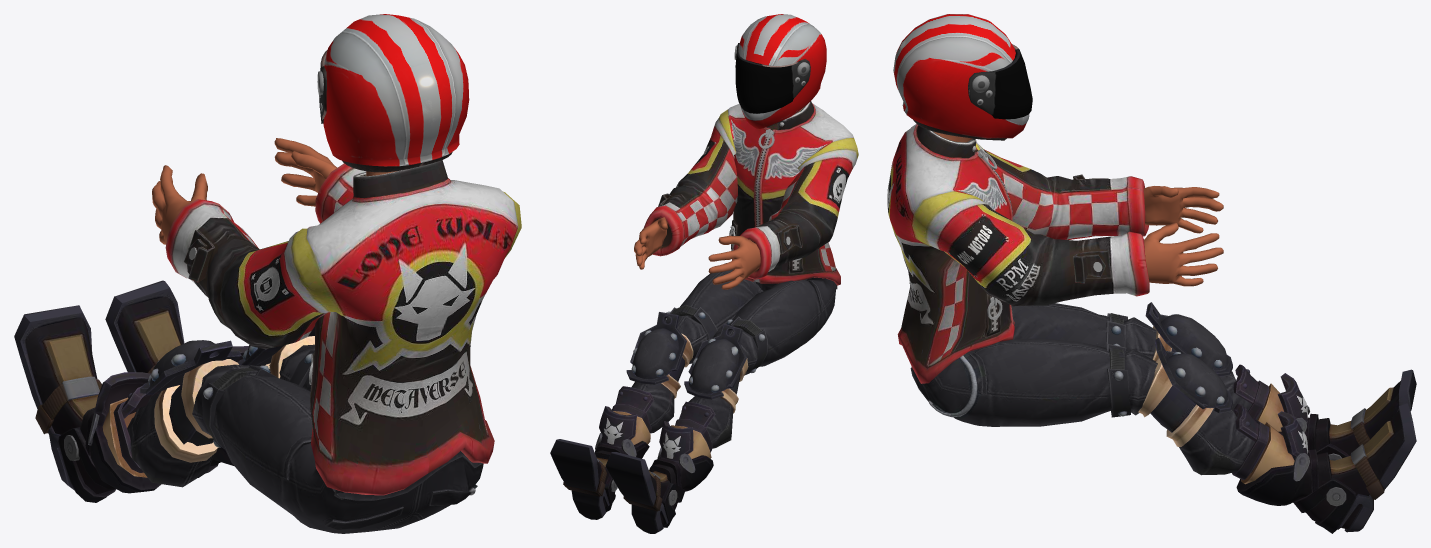
File: driver_human_cabin.glb
The picture shows the model from 3 angles, left to right: view 1: azimuth 30°, elevation 25°; view 2: azimuth 150°, elevation 25°; view 3: azimuth 270°, elevation 25°; orthographic projection. The views are drawn at different scales.
Parts seen in each view (by area): view 1: Object_105_baked, Object_101_baked, Object_97_baked, Object_103_baked, Object_99_baked; view 2: Object_101_baked, Object_105_baked, Object_103_baked, Object_97_baked, Object_99_baked; view 3: Object_105_baked, Object_101_baked, Object_97_baked, Object_103_baked, Object_99_baked.
Part boxes in pixels (<box>): Object_105_baked: <box>165,160,521,495</box>; Object_101_baked: <box>94,326,483,533</box>; Object_97_baked: <box>317,14,469,172</box>; Object_103_baked: <box>14,280,233,502</box>; Object_99_baked: <box>152,138,337,244</box>; Object_101_baked: <box>599,263,837,463</box>; Object_105_baked: <box>644,101,858,285</box>; Object_103_baked: <box>550,433,713,533</box>; Object_97_baked: <box>734,14,826,128</box>; Object_99_baked: <box>634,217,760,289</box>; Object_105_baked: <box>887,124,1149,383</box>; Object_101_baked: <box>910,302,1308,484</box>; Object_97_baked: <box>893,14,1032,140</box>; Object_103_baked: <box>1236,369,1416,533</box>; Object_99_baked: <box>1144,186,1223,286</box>.
Bounding box in the file's own units: 0.4641 × 1.12 × 1.08.
Materials: 8 (8 with a texture image).
